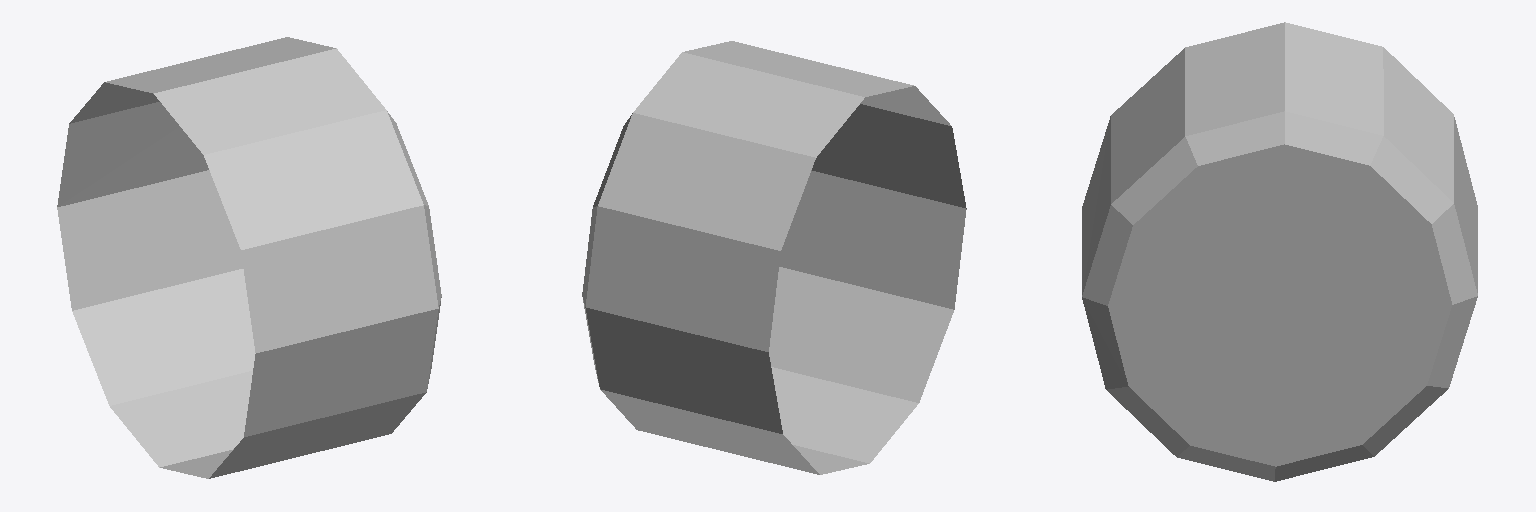
Rendered from back_Wheel.obj.
3 views of the same model, side by side, from view 1: azimuth 30°, elevation 25°; view 2: azimuth 150°, elevation 25°; view 3: azimuth 270°, elevation 25° (orthographic).
Visible parts, largest first — view 1: Kart.002; view 2: Kart.002; view 3: Kart.002.
Part boxes in pixels (left/top/right/bottom): Kart.002: left=57, top=37, right=441, bottom=478; Kart.002: left=582, top=41, right=966, bottom=474; Kart.002: left=1082, top=22, right=1477, bottom=481.
Bounding box in the file's own units: 3.63 × 6.44 × 6.24.